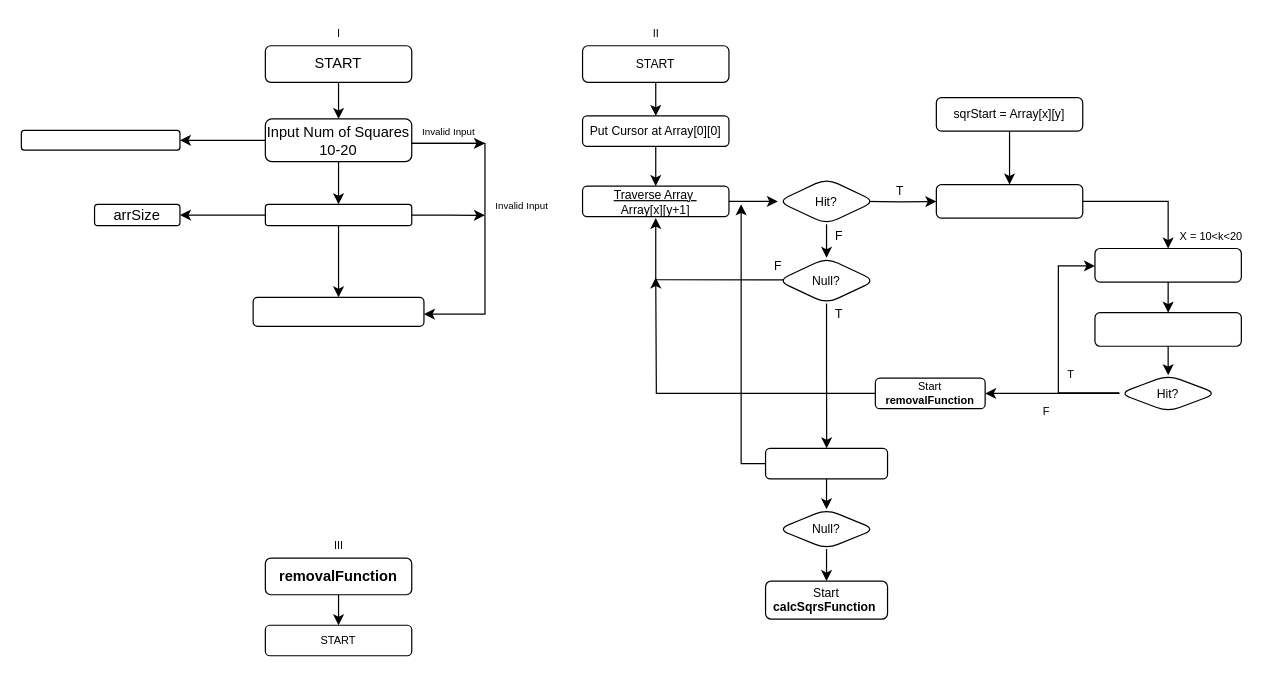
Some shapes in this 1275 by 677 pixel diagram are drawn without their labels. Each missing label, with the centre of its shape:
"add to squares[x]'s length" goes at [1167,264].
"Array[x][y+1]" goes at [1167,328].
"End" goes at [338,311].
"Get Array Size" goes at [338,214].
"squares[numSquares]" goes at [100,139].
"Start Count Square Length" goes at [1009,200].
"Traverse Array Array[x+1][y]" goes at [826,463].
